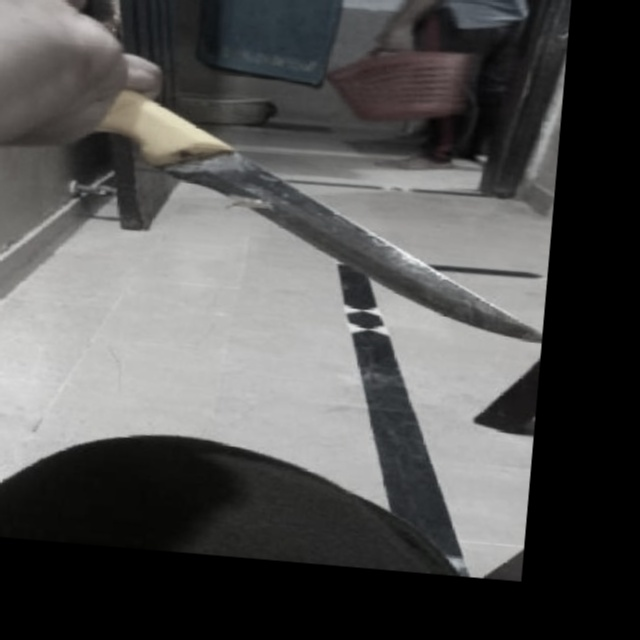Sharp-Object: (74, 86, 557, 342)
